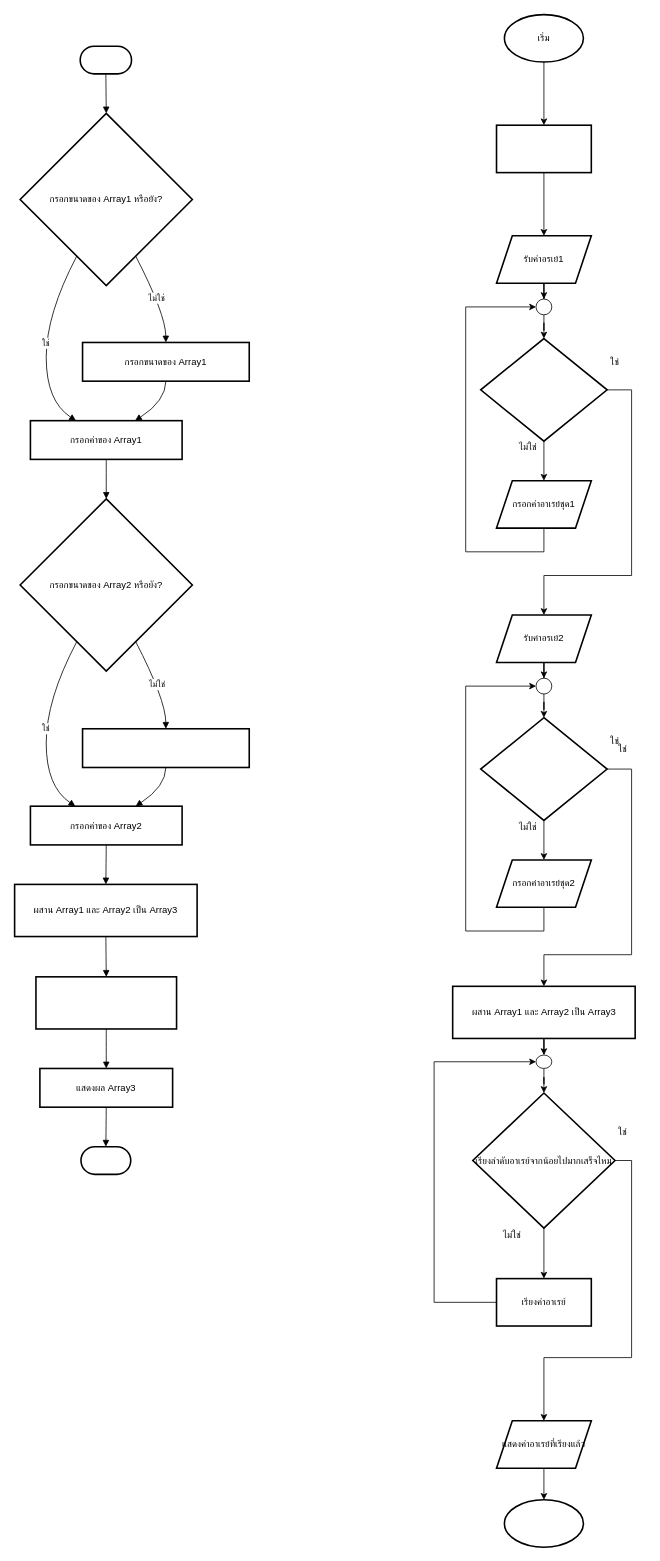
Image size: 660x1561. Some labels were removed from this diagram. The centre of each missing label's shape, as x and y in pixels:
"กรอกขนาดของ Array2" goes at pixel 165 748.
"กำหนดตัวแปร" goes at pixel 543 148.
"ครบรอบตามที่รับอาเรย์1ไหม" goes at pixel 544 389.
"ครบรอบตามที่รับอาเรย์2ไหม" goes at pixel 544 769.
"จบ" goes at pixel 543 1523.
"สิ้นสุด" goes at pixel 105 1160.
"เริ่มต้น" goes at pixel 105 59.
"เรียงลำดับ Array3 จากมากไปน้อย" goes at pixel 106 1002.
